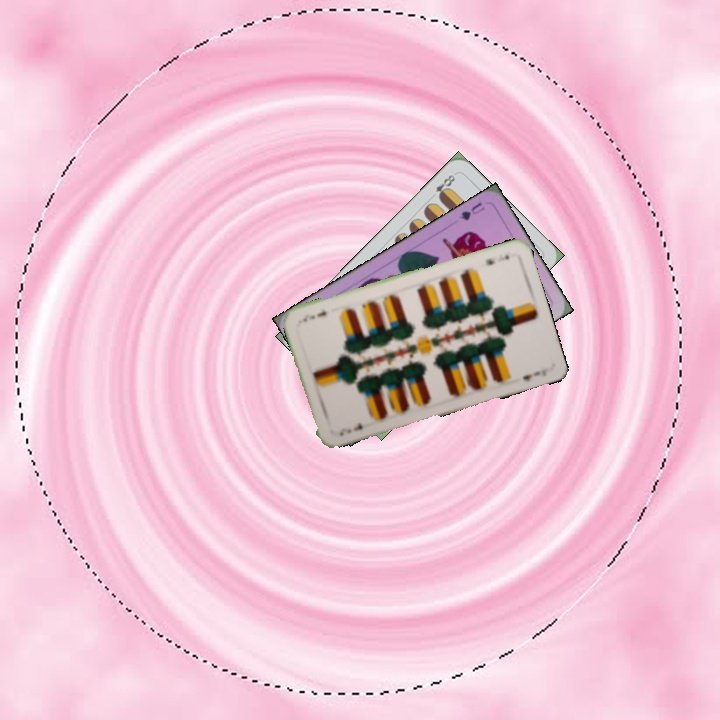E7: (335, 418, 365, 438), (481, 251, 512, 268)
E8: (426, 170, 458, 202)
GU: (455, 198, 487, 223)
